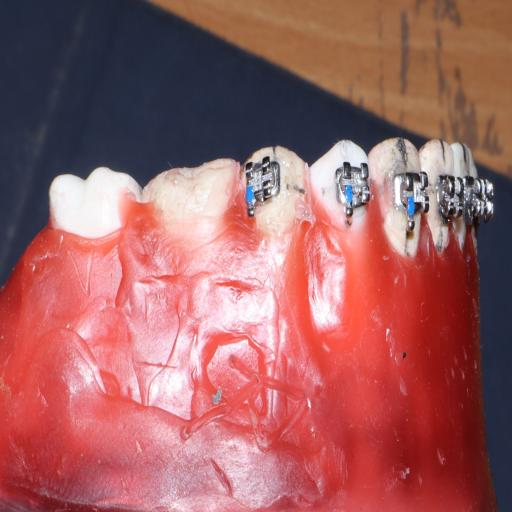incorrect_brace: (244, 155, 282, 199)
